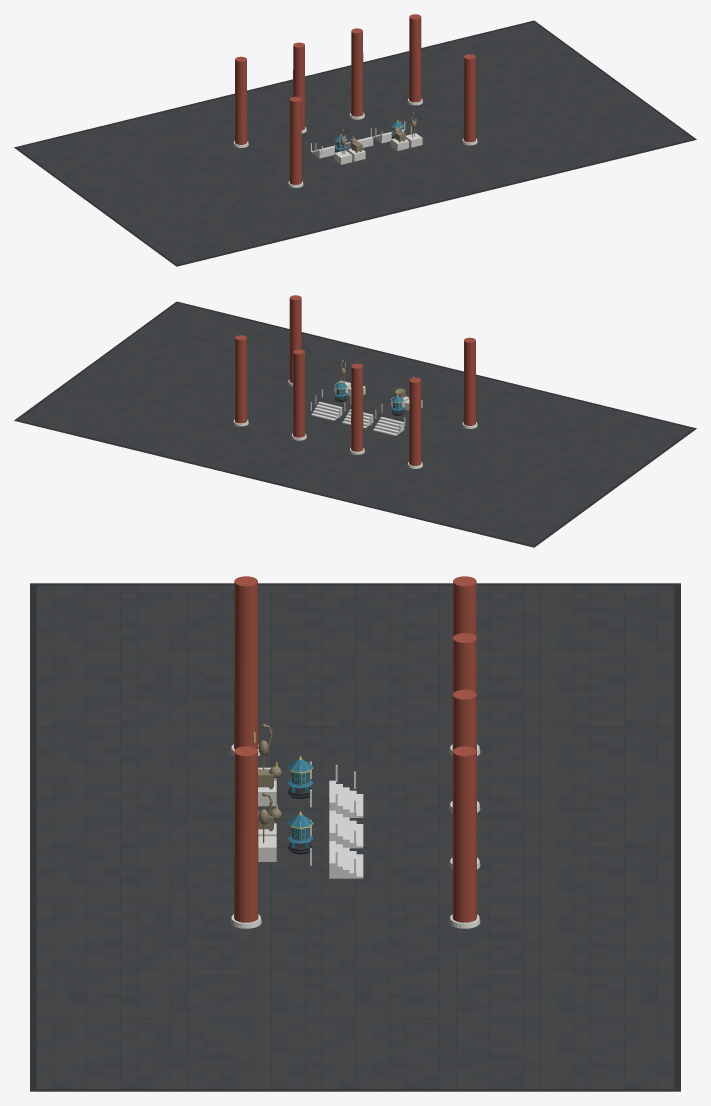
The model's file is qianqing-r31.glb.
The picture shows the model from 3 angles, top to bottom: view 1: azimuth 30°, elevation 25°; view 2: azimuth 150°, elevation 25°; view 3: azimuth 270°, elevation 25°; orthographic projection. The views are drawn at different scales.
Parts seen in each view (by area): view 1: floor_tiles, merged_red_lacquer, merged_brick_grout, merged_white_marble, merged_bronze; view 2: floor_tiles, merged_red_lacquer, merged_brick_grout; view 3: floor_tiles, merged_brick_grout, merged_red_lacquer, merged_qianqing_enamel, merged_bronze, merged_white_marble.
Boxes of the visible parts, x1,y1,x2,y2 form: floor_tiles: (18, 22, 692, 264); merged_red_lacquer: (235, 14, 475, 184); merged_brick_grout: (14, 20, 696, 266); merged_white_marble: (334, 133, 422, 164); merged_bronze: (340, 112, 416, 154); floor_tiles: (18, 303, 692, 545); merged_red_lacquer: (235, 295, 475, 465); merged_brick_grout: (14, 301, 696, 547); floor_tiles: (36, 585, 674, 1088); merged_brick_grout: (30, 583, 680, 1091); merged_red_lacquer: (234, 576, 476, 922); merged_qianqing_enamel: (287, 759, 313, 847); merged_bronze: (258, 723, 281, 843); merged_white_marble: (258, 767, 276, 861).
Size of the model in its own units: 45.8 by 7.24 by 24.8.
